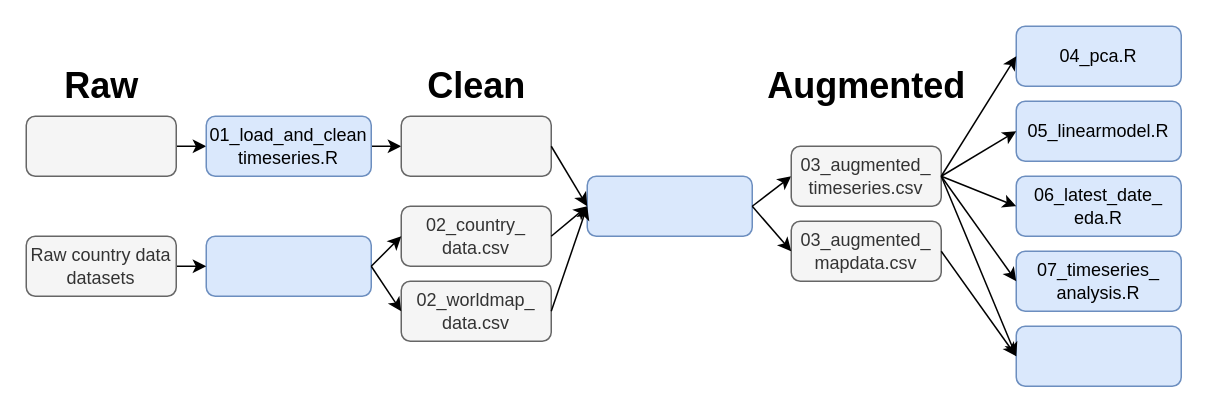
This 1208x413 diagram has some shape labels left out. The shapes that lost their labels are listed below. From the top down, each one's centre as x and y in pixels, then its label:
point (100, 145): Raw timeseries datasets
point (475, 145): 01_timeseries_ country.csv
point (669, 205): 03_augment_ data.R
point (288, 265): 02_load_and_clean country_data.R
point (1098, 355): Shiny app
